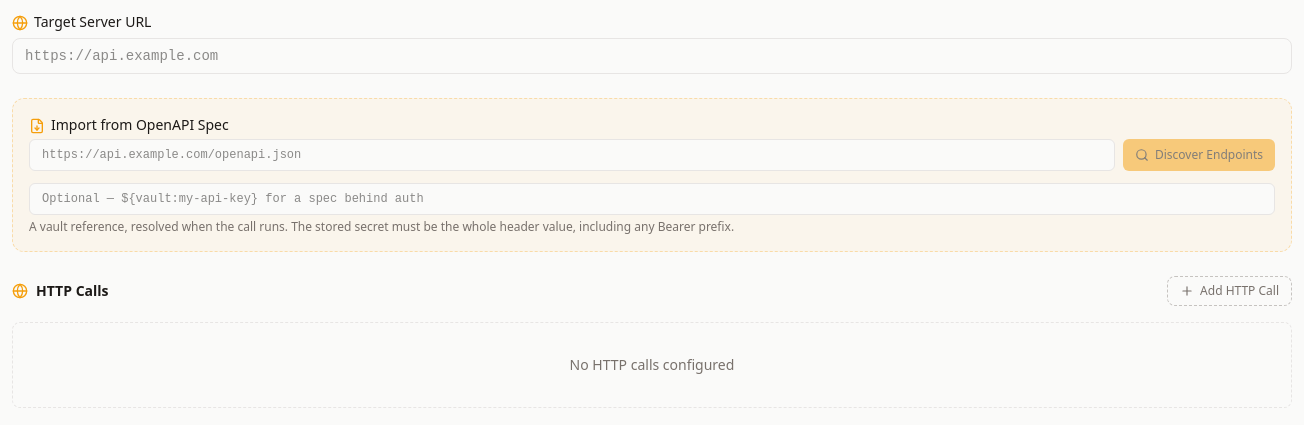
ApiCallsEditor › leaves discovery available when no auth reference is given
This screenshot has width=1304, height=425.
In the field with test id "spec-url-input": (572, 155) [29,139,1115,171], type "https://api.test.com/openapi.json"
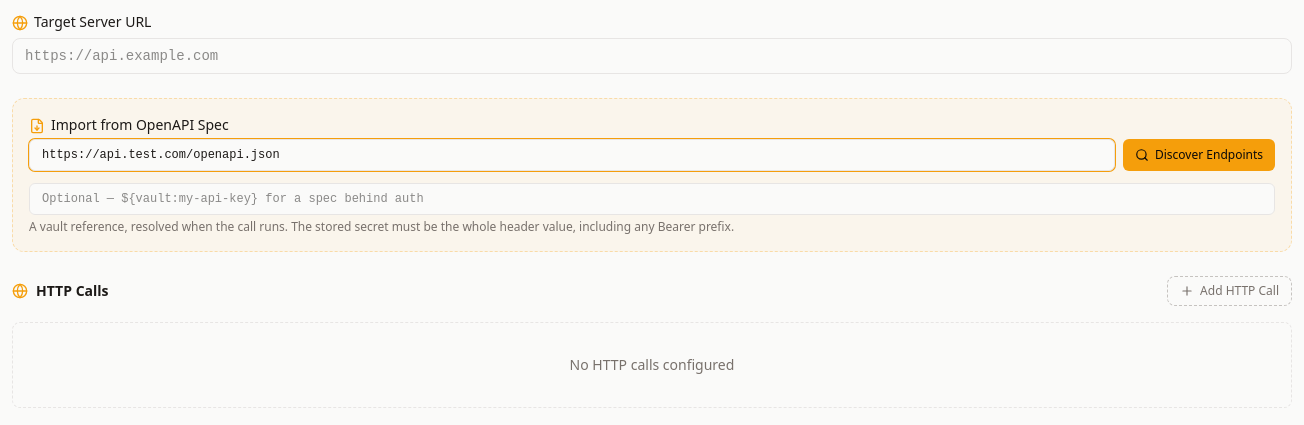
expect the button with test id "discover-endpoints-btn" is enabled: met, box [1123,139,1275,171]
